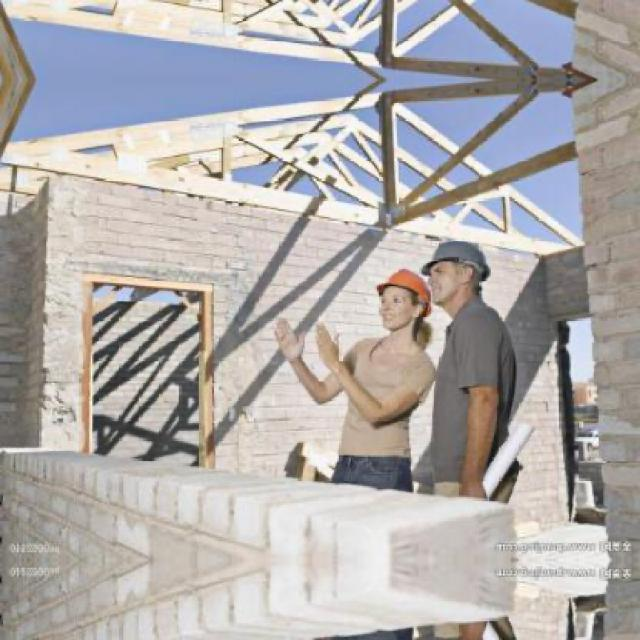helmet: (418, 230, 496, 312), (370, 260, 436, 335)
